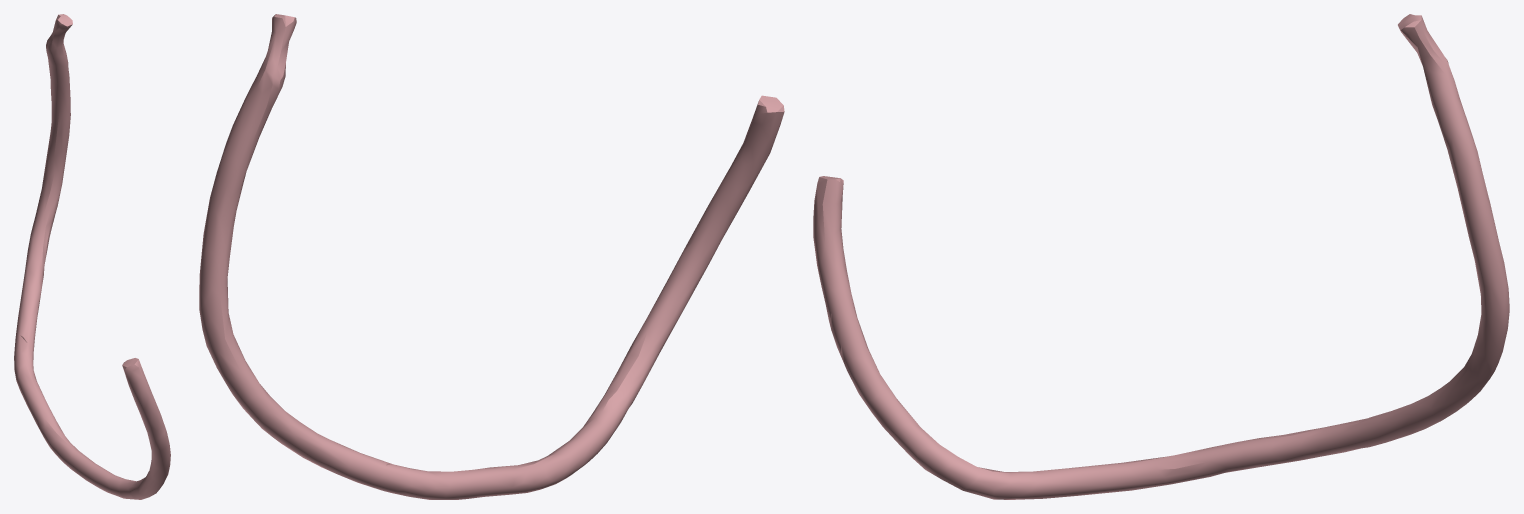
Rendered from fma84617_mm514.glb.
3 renders of one model, left to right at view 1: azimuth 30°, elevation 25°; view 2: azimuth 150°, elevation 25°; view 3: azimuth 270°, elevation 25°, orthographic. The views are drawn at different scales.
Parts seen in each view (by area): view 1: FMA84617_MM514; view 2: FMA84617_MM514; view 3: FMA84617_MM514.
Part boxes in pixels (left/top/right/bottom): FMA84617_MM514: left=14, top=14, right=170, bottom=499; FMA84617_MM514: left=199, top=14, right=784, bottom=499; FMA84617_MM514: left=813, top=14, right=1509, bottom=499.
Size of the model in its own units: 0.00994 by 0.0209 by 0.0245.
